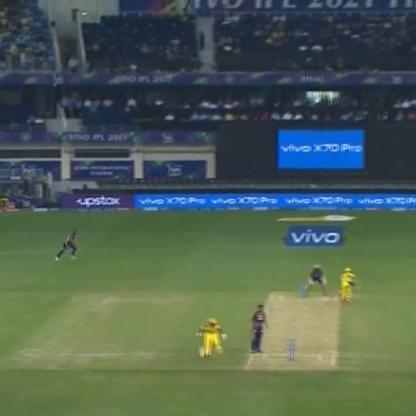pitch: (242, 294, 339, 368)
